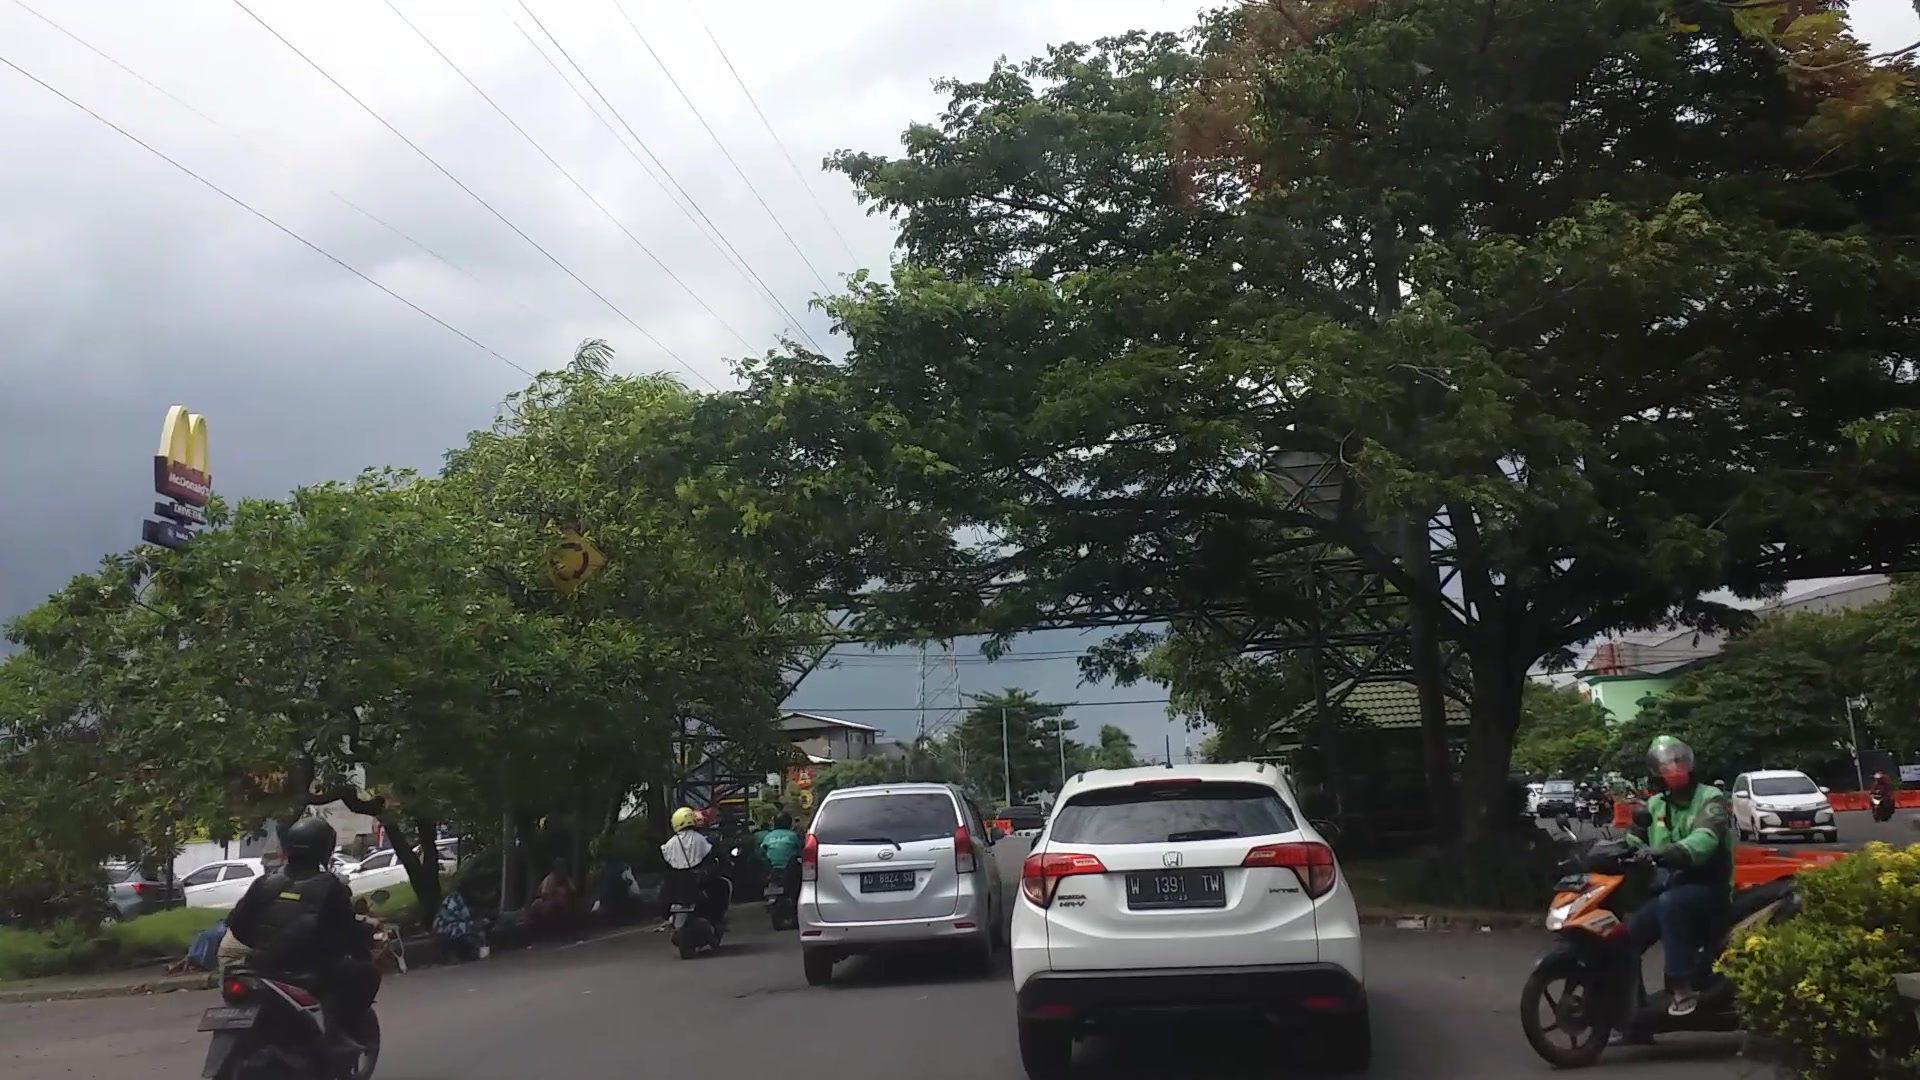plate_positive: (1126, 872, 1225, 909), (861, 872, 915, 891)
